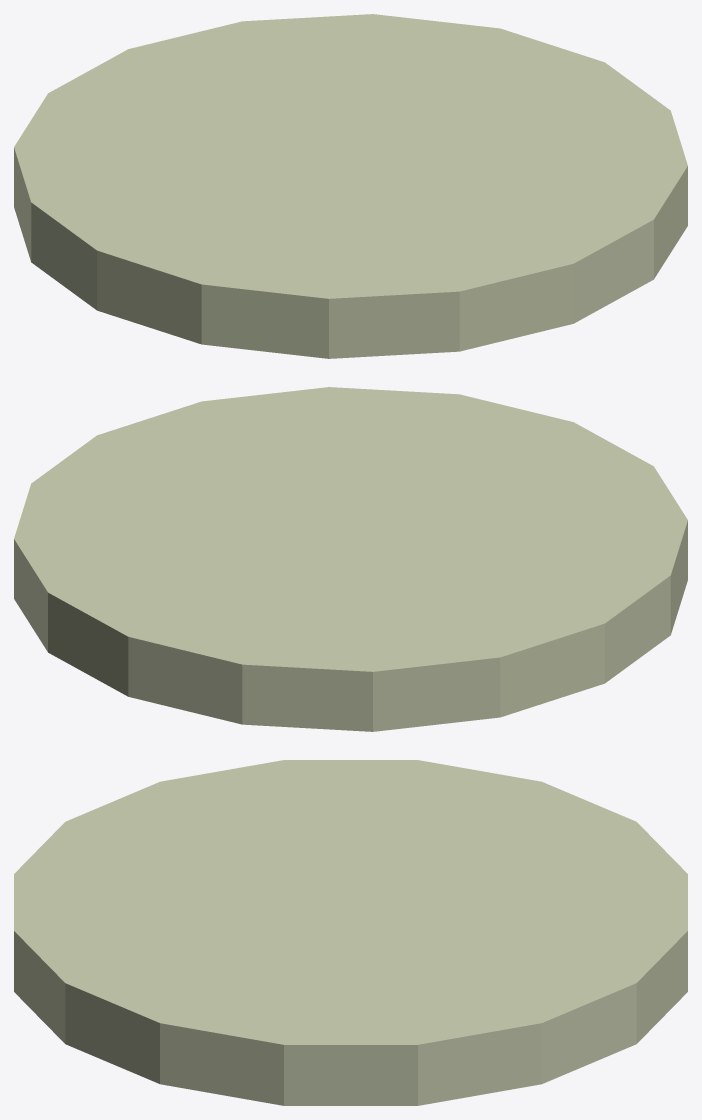
The model's file is Castor_Decoupler_1_P_Collider.obj.
The picture shows the model from 3 angles, top to bottom: view 1: azimuth 30°, elevation 25°; view 2: azimuth 150°, elevation 25°; view 3: azimuth 270°, elevation 25°; orthographic projection.
Parts seen in each view (by area): view 1: Castor_Decoupler_1_P_Collider; view 2: Castor_Decoupler_1_P_Collider; view 3: Castor_Decoupler_1_P_Collider.
Boxes of the visible parts, x1,y1,x2,y2 form: Castor_Decoupler_1_P_Collider: (14, 14, 687, 358); Castor_Decoupler_1_P_Collider: (14, 387, 687, 731); Castor_Decoupler_1_P_Collider: (14, 760, 687, 1105).
Size of the model in its own units: 1.25 by 0.125 by 1.25.
